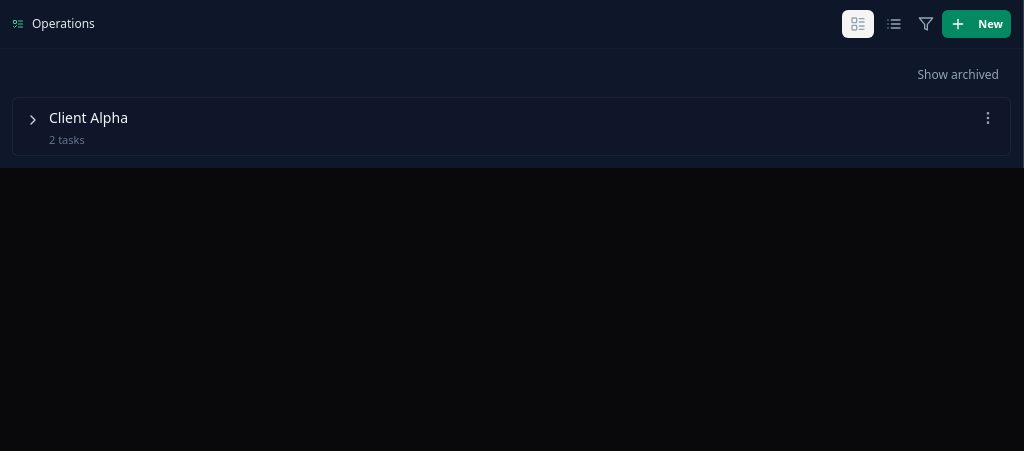
Scenario: TaskPanel reporting prepare shortcut › does not infer preparability from stopped task status when inventory says no
The image size is (1024, 451).
Click the button "Client Alpha" at (88, 118), box [49, 108, 128, 128]
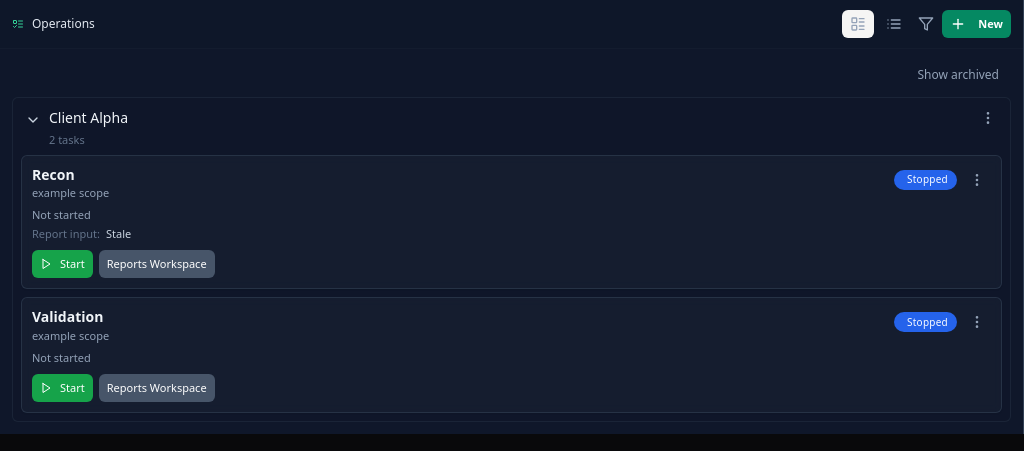
Expected: the text "Report input:" is shown, [32, 226, 100, 242]
Expected: the text "Stale" is shown, [106, 226, 131, 242]
